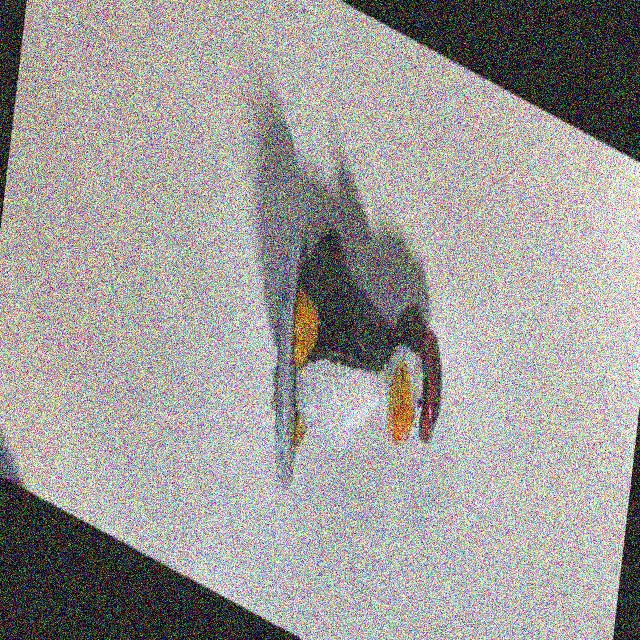Penguin: (253, 175, 460, 587)
